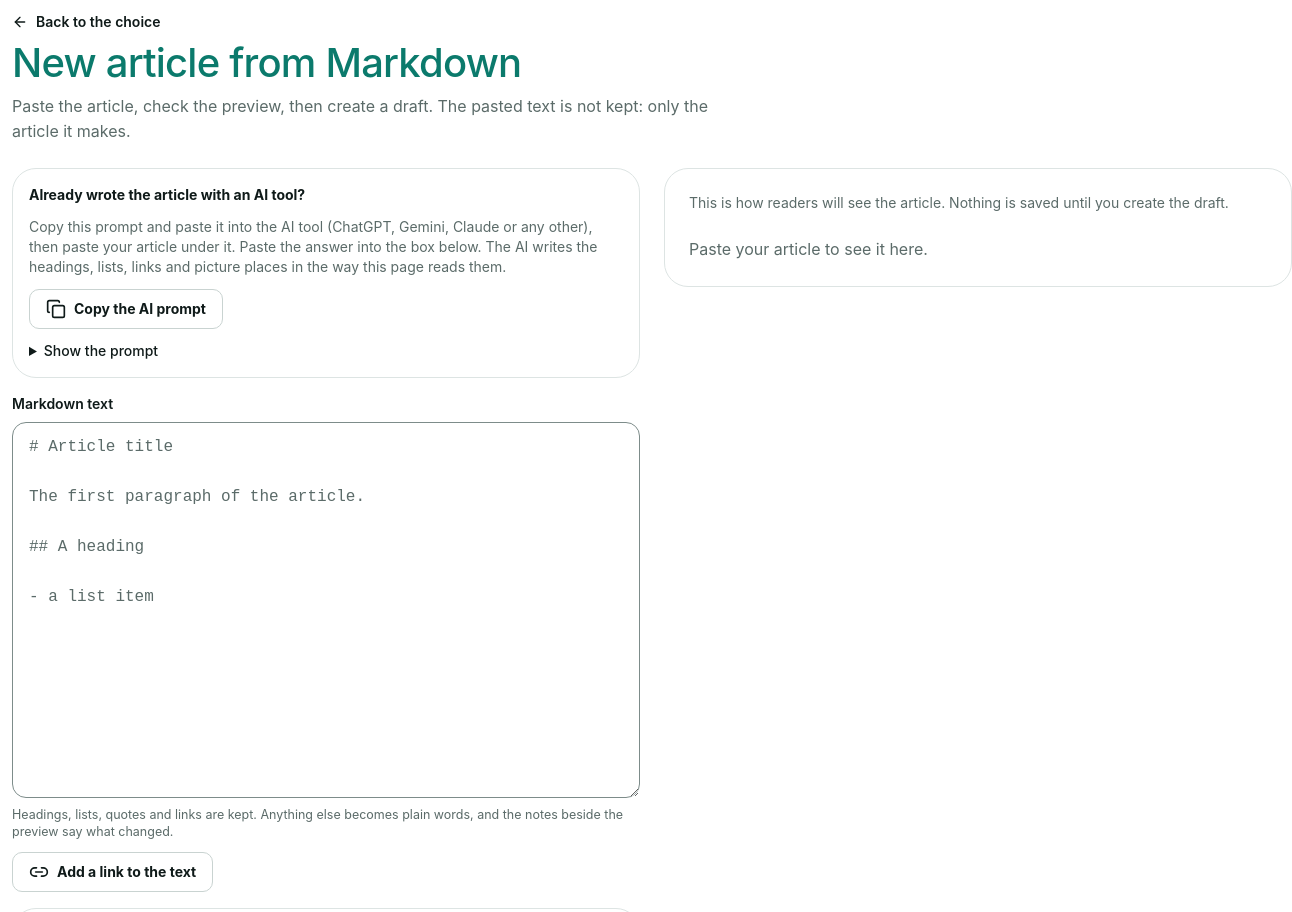
Scenario: BlogMarkdownFlow: the paste screen (ADR-172) › draws the preview with the article's own blocks and fills the title, address and summary
Replace the text in the text box labelled "Markdown text" with "# whatever": point(326, 610) [12, 422, 640, 798]
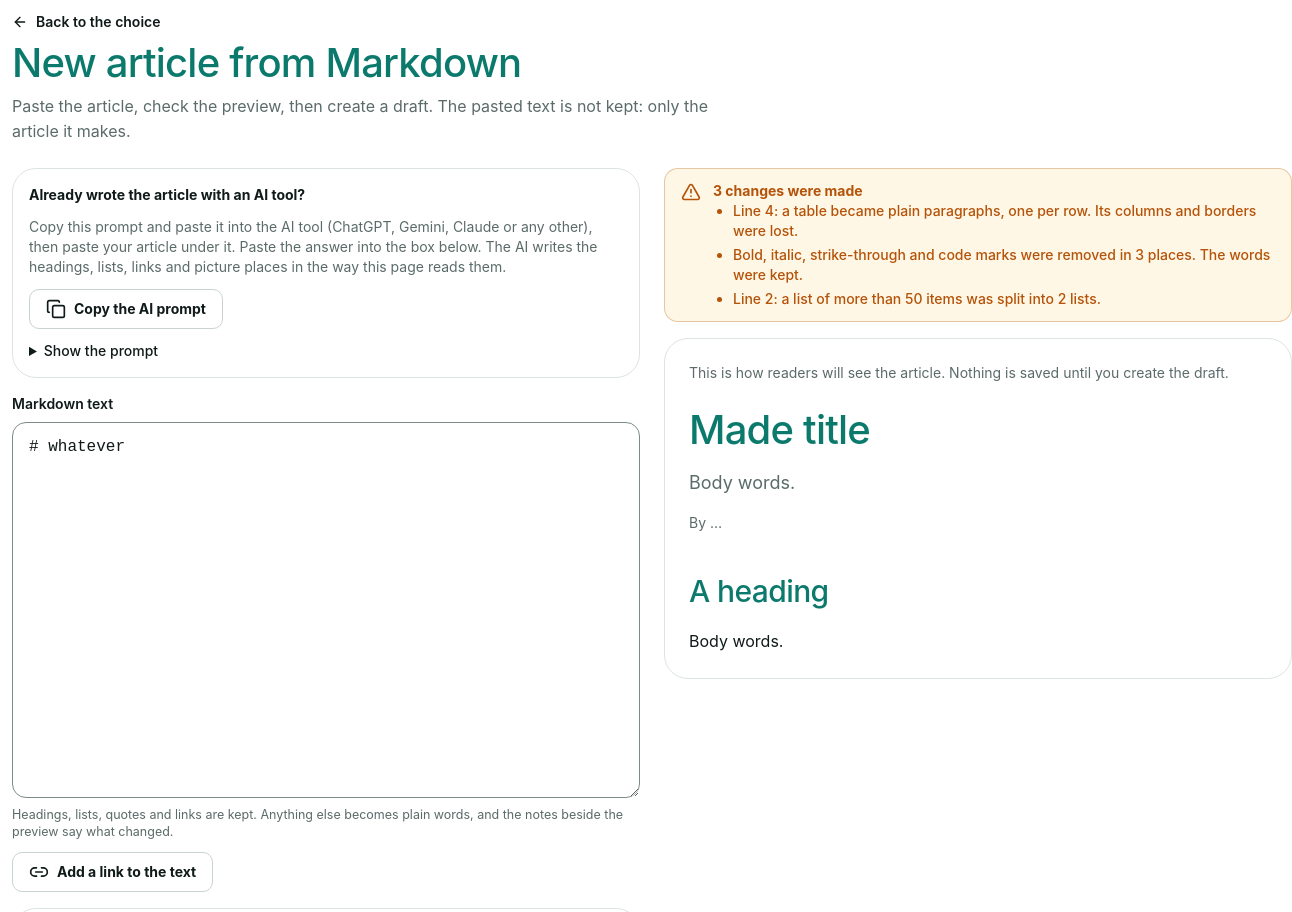
Result: the heading "A heading" is shown at [689, 573, 829, 609]
Result: the text "Body words." is shown 2 times at [689, 472, 795, 493]; [689, 631, 783, 651]
Result: the heading "Made title" is shown at [689, 405, 870, 454]
